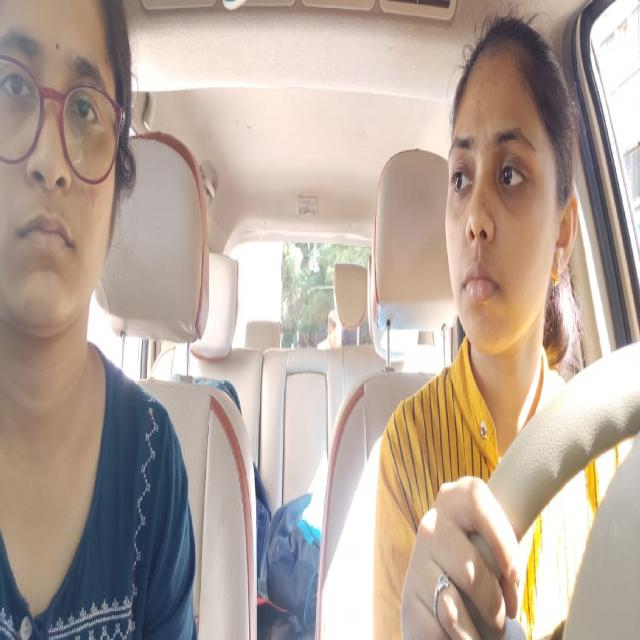person: (443, 25, 578, 354), (2, 2, 125, 341)
